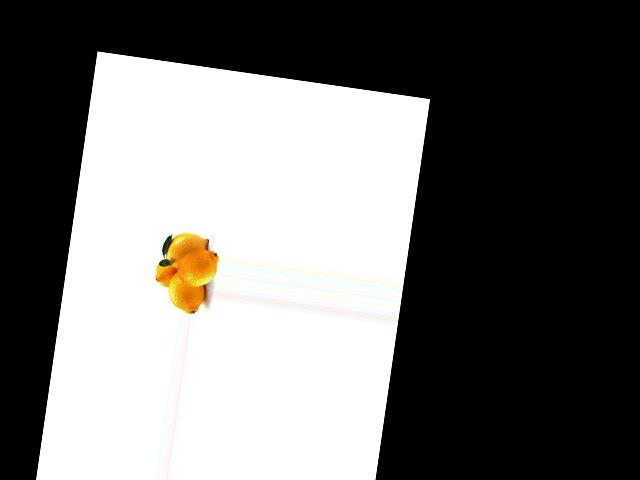lemon: (164, 269, 203, 316)
